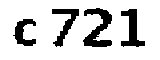1: (120, 7, 148, 53)
2: (83, 5, 115, 50)
7: (48, 5, 81, 51)
c: (11, 18, 39, 49)
